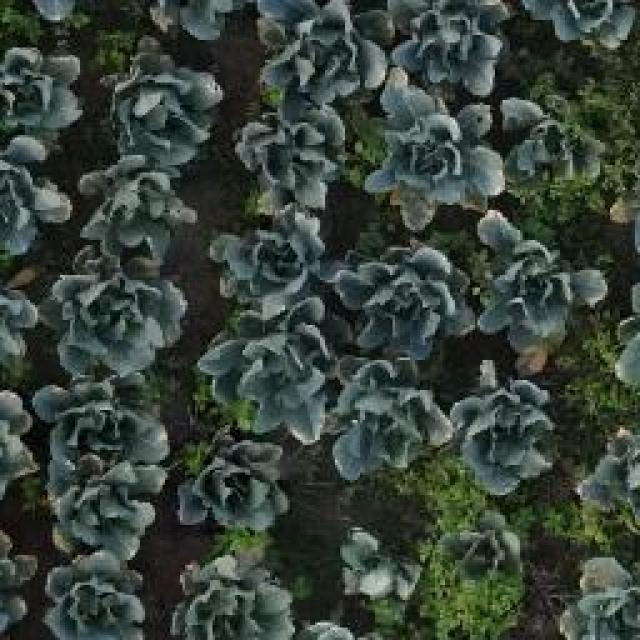cabbage: (469, 210, 609, 354), (199, 303, 333, 441), (370, 86, 505, 222), (329, 237, 477, 356), (322, 348, 451, 479), (49, 259, 188, 378), (444, 358, 560, 500), (32, 377, 178, 485), (102, 44, 225, 168), (234, 95, 352, 211), (244, 0, 387, 92), (77, 155, 199, 261), (174, 432, 297, 536), (212, 200, 331, 305), (384, 0, 511, 96), (501, 86, 609, 196), (162, 554, 295, 640), (41, 467, 160, 561), (37, 549, 153, 640), (0, 32, 89, 139), (330, 517, 426, 608), (440, 506, 532, 592), (554, 553, 640, 640), (572, 420, 640, 528)
